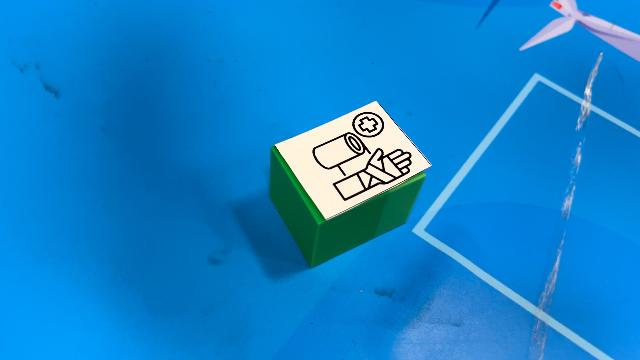bandage: (270, 100, 432, 268)
